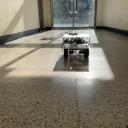cart: (62, 34, 91, 57)
